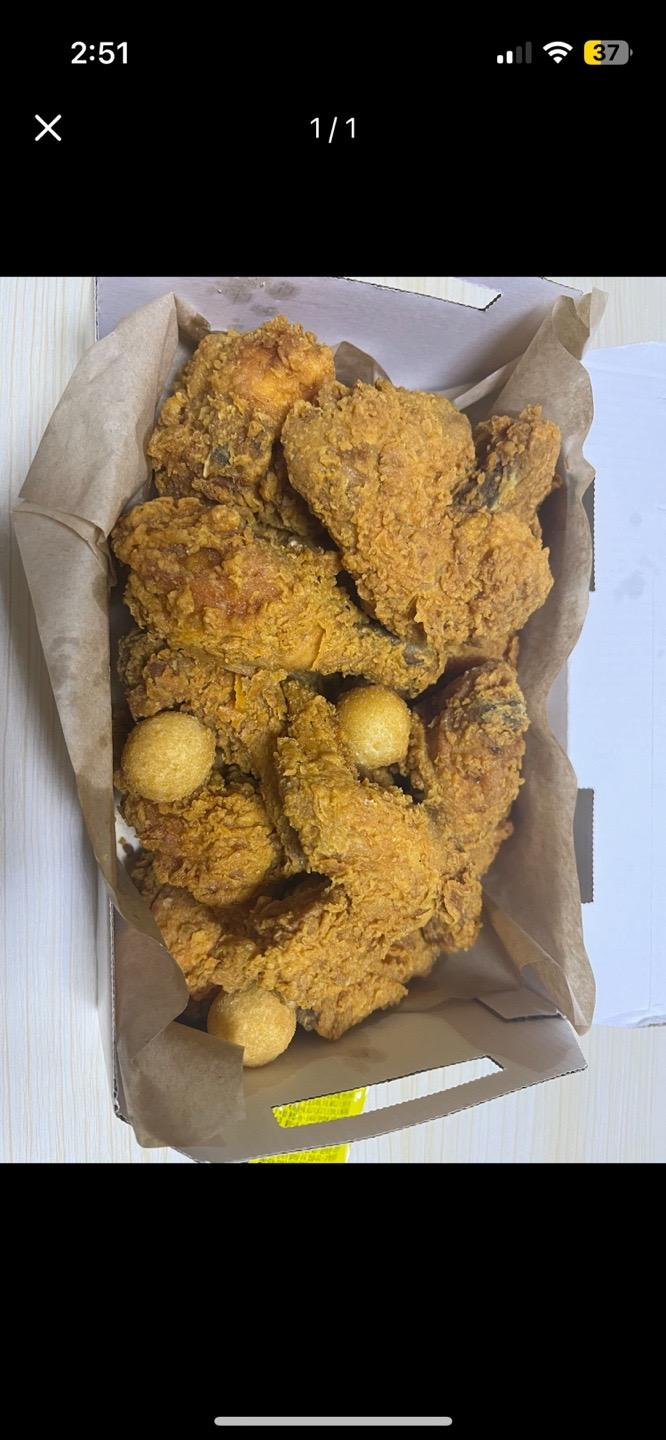Lunch Box: (14, 276, 665, 1163)
